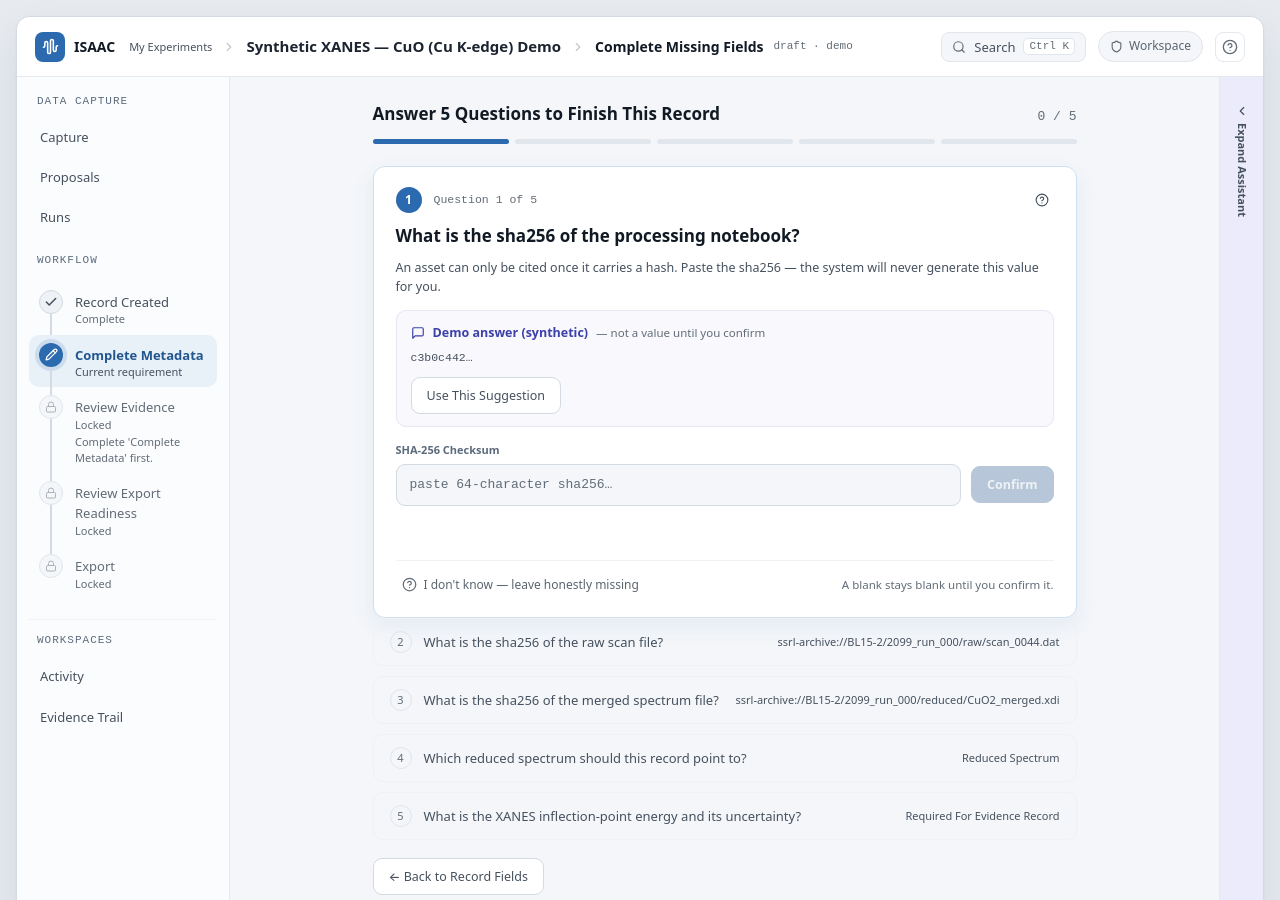
S4 · Guided Completion (live) › confirming an answer POSTs confirmed_by_user:true and shrinks pending from the response
Check: the heading "Answer 5 Questions to Finish This Record" is shown, box left=372, top=101, right=720, bottom=127
Check: the heading "What is the sha256 of the processing notebook?" is shown, box left=396, top=224, right=800, bottom=247
Note: type the value and confirm
Type "c3b0c442…" into the field named "Asset Hash". click: (678, 485)
box: left=396, top=464, right=961, bottom=506
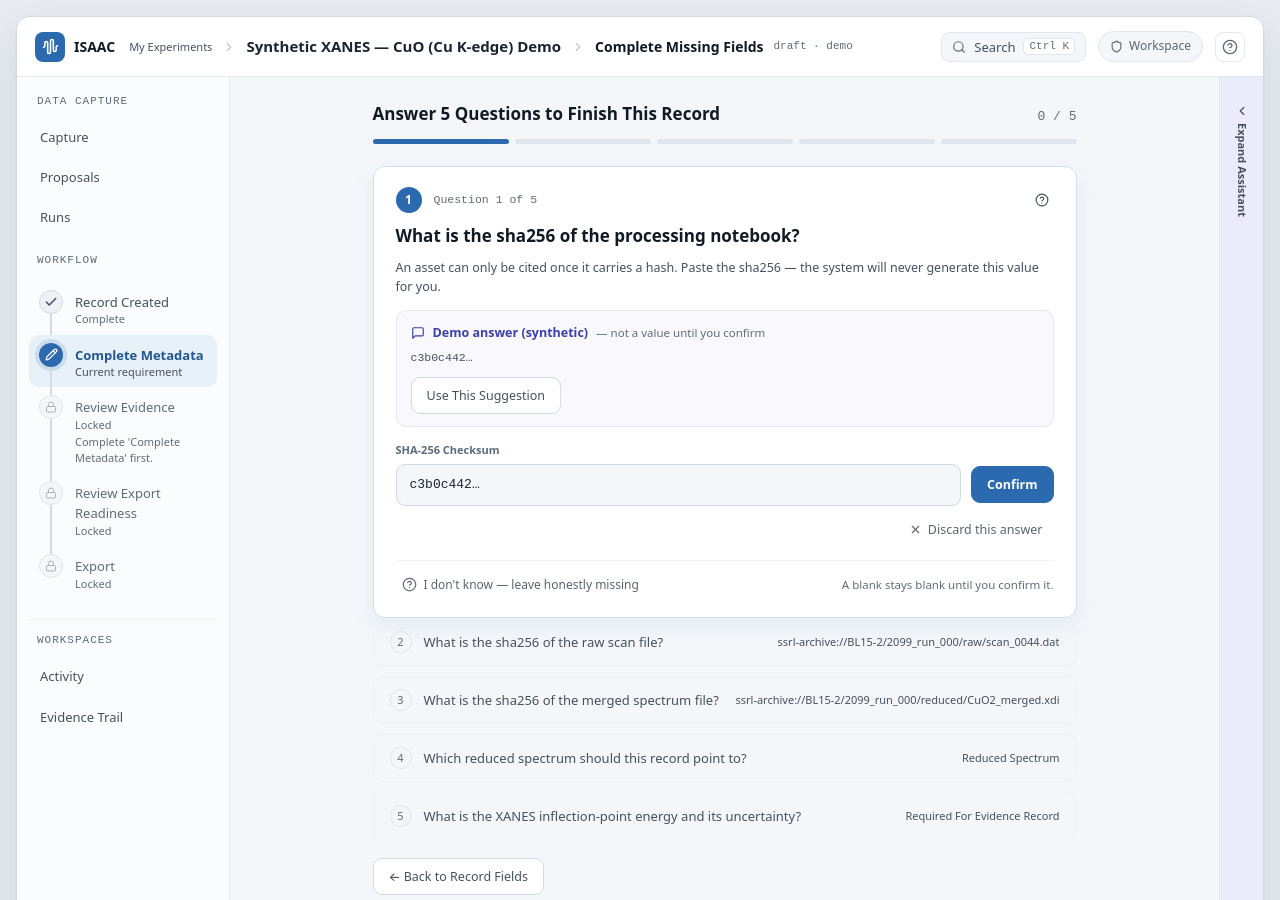
Click the button "Confirm". click: (1012, 485)
box: left=971, top=466, right=1054, bottom=503
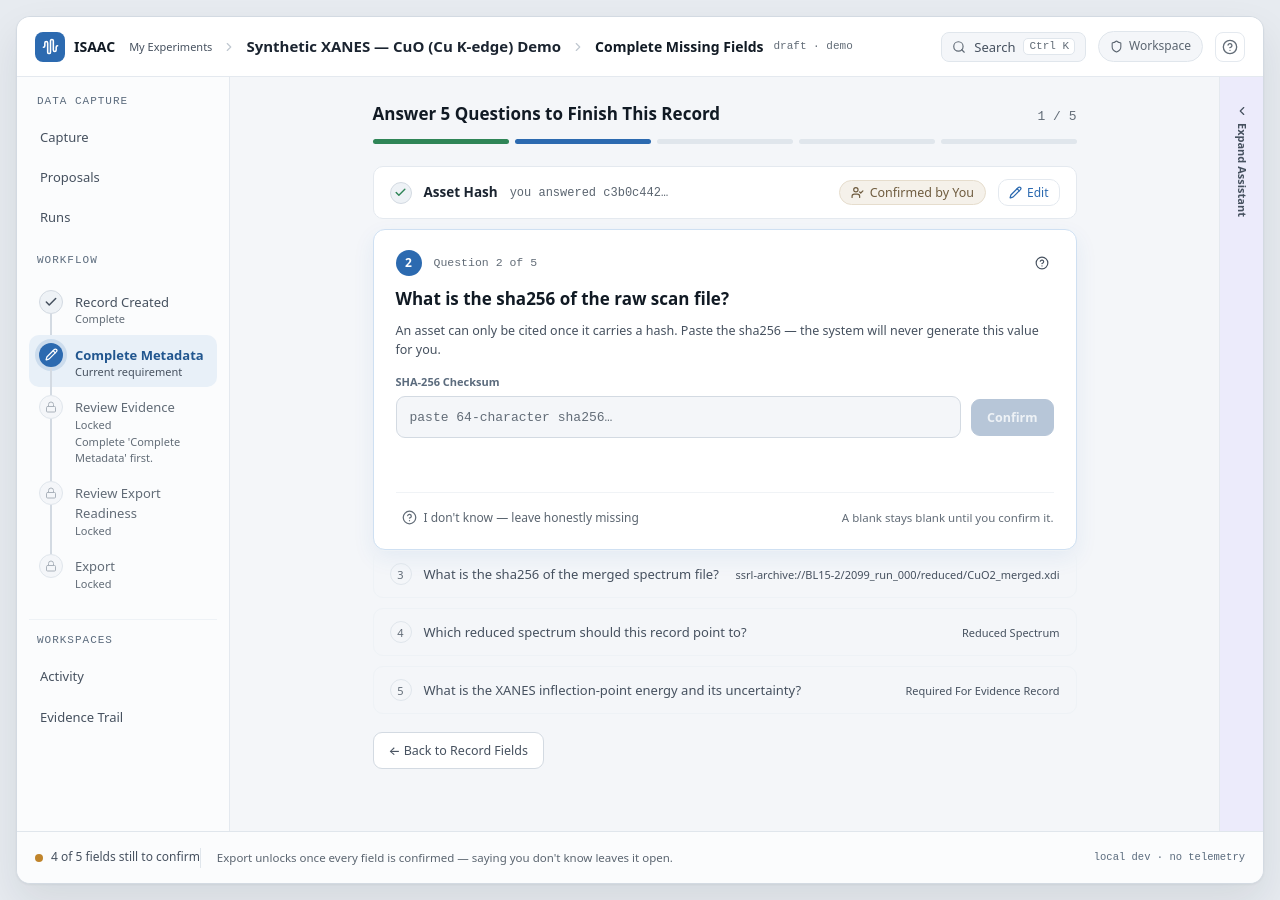
Check: the text "1 / 5" is shown, box left=1038, top=107, right=1076, bottom=127
Check: the text "Confirmed by You" is shown, box left=870, top=187, right=974, bottom=199
Check: the heading "What is the sha256 of the processing notebook?" is gone
